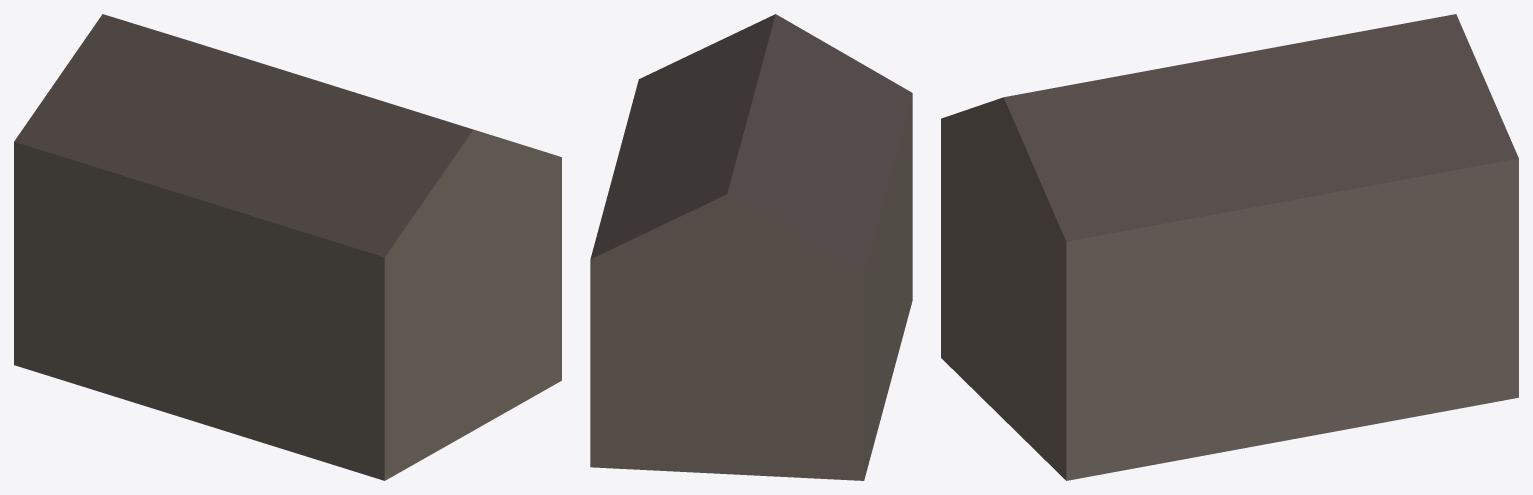
3 renders of one model, left to right at view 1: azimuth 30°, elevation 25°; view 2: azimuth 150°, elevation 25°; view 3: azimuth 270°, elevation 25°, orthographic. The views are drawn at different scales.
Parts seen in each view (by area): view 1: HP-w378107184; view 2: HP-w378107184; view 3: HP-w378107184.
Part boxes in pixels (left/top/right/bottom): HP-w378107184: left=14, top=14, right=561, bottom=480; HP-w378107184: left=590, top=14, right=912, bottom=480; HP-w378107184: left=941, top=14, right=1518, bottom=480.
Size of the model in its own units: 11.1 by 8.08 by 13.14.
